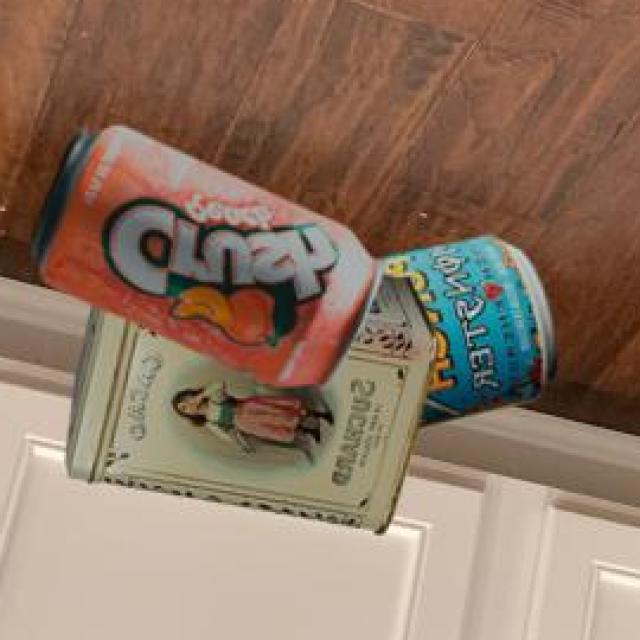logam: (63, 279, 433, 537), (30, 129, 380, 392), (376, 241, 551, 430)
